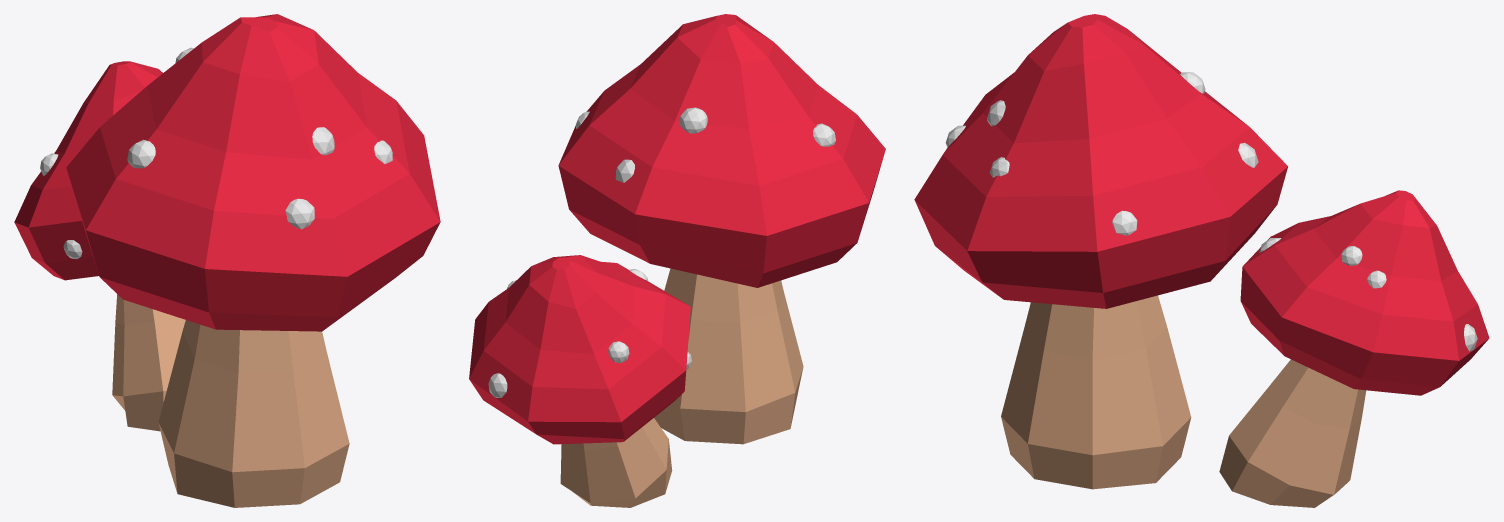
File: MushRoom2.fbx
The picture shows the model from 3 angles, left to right: view 1: azimuth 30°, elevation 25°; view 2: azimuth 150°, elevation 25°; view 3: azimuth 270°, elevation 25°; orthographic projection. The views are drawn at different scales.
Parts seen in each view (by area): view 1: Circle, Circle.001, Icosphere, Icosphere.001, Icosphere.012; view 2: Circle, Circle.001, Icosphere.002; view 3: Circle, Circle.001.
Boxes of the visible parts, x1,y1,x2,y2 form: Circle: (66,14,440,507); Circle.001: (14,61,185,431); Icosphere: (285,198,314,229); Icosphere.001: (127,139,155,168); Icosphere.012: (312,127,334,155); Circle: (558,14,885,444); Circle.001: (469,255,690,507); Icosphere.002: (679,107,707,133); Circle: (914,14,1287,489); Circle.001: (1219,190,1489,507).
Size of the model in its own units: 113 by 153 by 173.
